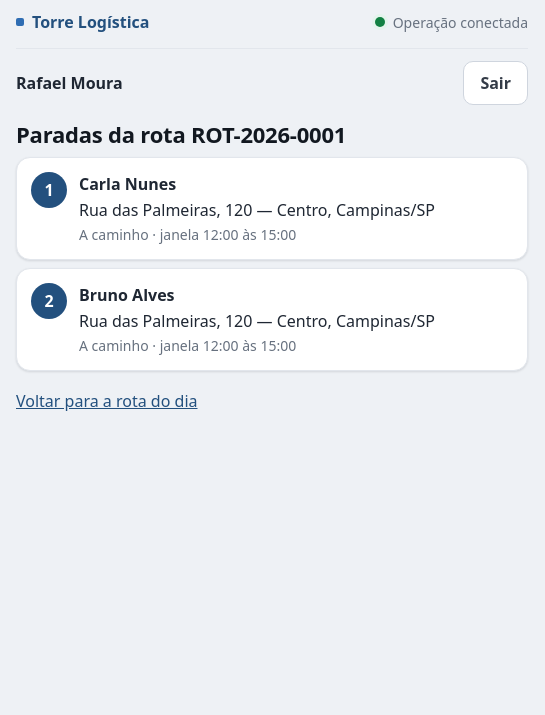
PWA do motorista › lista de paradas mostra a ordem da rota e abre o detalhe
Expected: the heading "Paradas da rota ROT-2026-0001" is shown, x1=16 y1=119 x2=346 y2=149
Click the link "Bruno Alves": {"x": 272, "y": 319} x1=16 y1=268 x2=528 y2=370
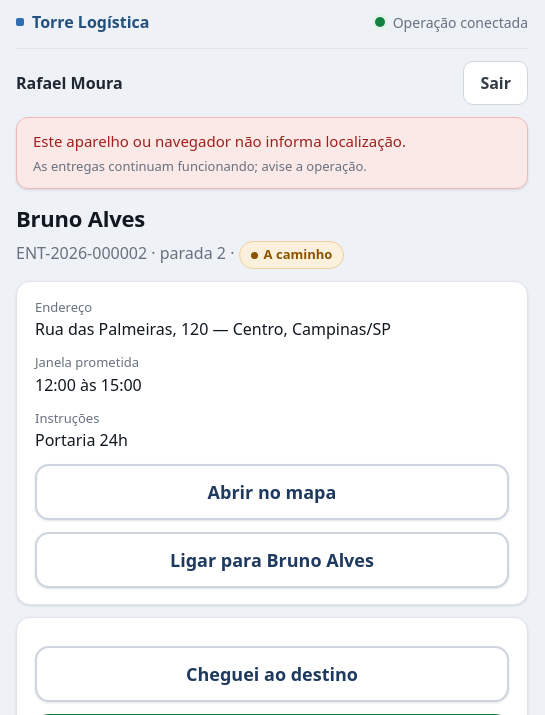
Expected: the heading "Bruno Alves" is shown, x1=16 y1=203 x2=145 y2=233
